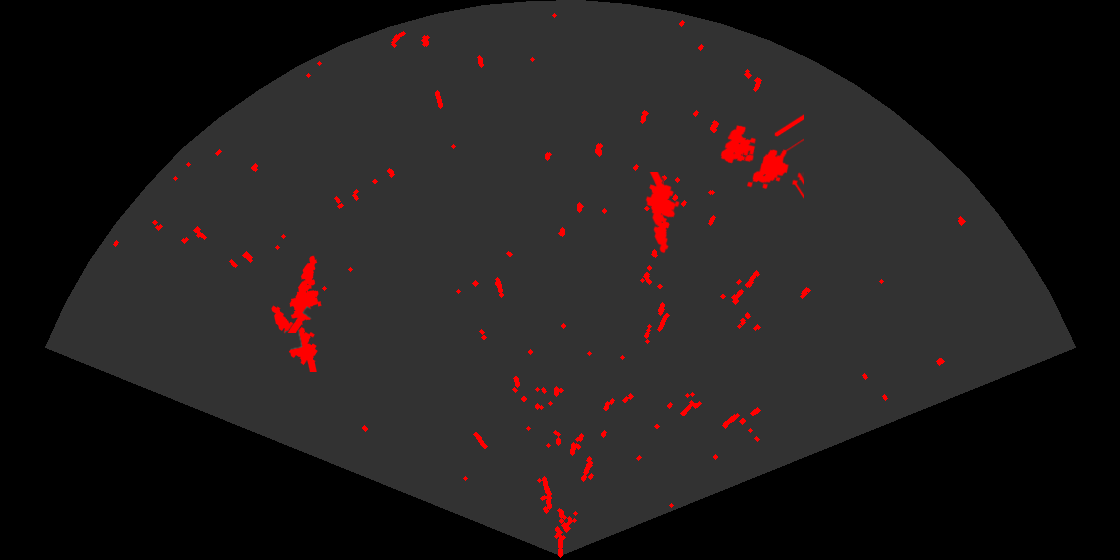cage: (719, 112, 804, 200)
frogman: (270, 304, 319, 372), (644, 172, 681, 255), (286, 254, 323, 333)
